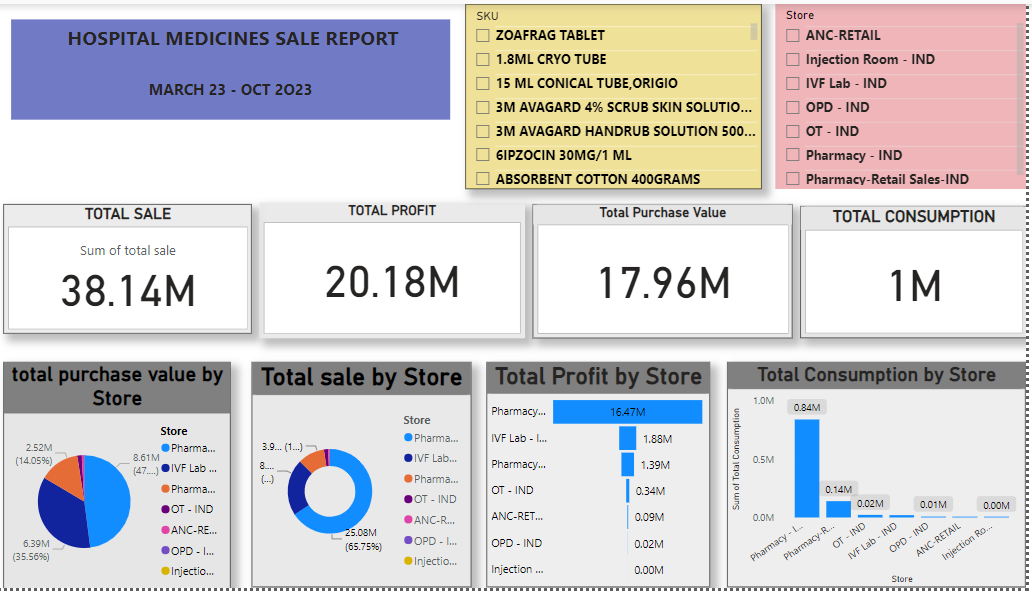

The dashboard page shown, as its layout file describes it:
{"tool":"powerbi","page":{"name":"Page 1","canvas":[1280,720],"ordinal":0},"visuals":[{"type":"pieChart","title":"total purchase value by Store","fields":{"Y":["Sum(Sheet1.Purchase Value with GST)"],"Category":["Sheet1.Store"]},"box":[19,441.4,280,280],"z":0},{"type":"donutChart","title":" Total sale by Store","fields":{"Y":["Sum(Sheet1.total sale)"],"Category":["Sheet1.Store"]},"box":[325.1,441.4,270.5,277.6],"z":1000},{"type":"funnel","title":"Total Profit by Store","fields":{"Y":["Sum(Sheet1.Total Profit)"],"Category":["Sheet1.Store"]},"box":[614.6,441.4,275.3,277.6],"z":2000},{"type":"columnChart","title":"Total Consumption by Store","fields":{"Y":["Sum(Sheet1.Total Consumption)"],"Category":["Sheet1.Store"]},"box":[911.3,441.4,367.8,277.6],"z":3000},{"type":"cardVisual","title":"TOTAL SALE","fields":{"Data":["Sum(Sheet1.total sale)"]},"box":[18.6,247.5,306.1,159.7],"z":4000},{"type":"cardVisual","title":"TOTAL PROFIT","fields":{"Data":["Sum(Sheet1.Total Profit)"]},"box":[335.4,244.9,327.4,167.7],"z":5000},{"type":"cardVisual","title":"Total Purchase Value","fields":{"Data":["Sum(Sheet1.Purchase Value with GST)"]},"box":[671,246,320,165],"z":6000},{"type":"cardVisual","title":"TOTAL CONSUMPTION","fields":{"Data":["Sum(Sheet1.Total Consumption)"]},"box":[1000.8,250.2,279.5,162.4],"z":7000},{"type":"slicer","fields":{"Values":["Sheet1.Store"]},"box":[970.6,0,310.9,227.8],"z":8000},{"type":"slicer","fields":{"Values":["Sheet1.SKU"]},"box":[588.5,0,365.5,227.8],"z":9000},{"type":"textbox","box":[28.5,19,541.1,123.4],"z":10000}]}

Visuals, with their boxes in screenshot pixels (x1, y1, x2, y2), scaled from the page's 1280x720 canvas onto the 1032x597 screenshot:
"total purchase value by Store" pieChart: [15, 366, 241, 596]
" Total sale by Store" donutChart: [262, 366, 480, 596]
"Total Profit by Store" funnel: [496, 366, 717, 596]
"Total Consumption by Store" columnChart: [735, 366, 1031, 596]
"TOTAL SALE" cardVisual: [15, 205, 262, 338]
"TOTAL PROFIT" cardVisual: [270, 203, 534, 342]
"Total Purchase Value" cardVisual: [541, 204, 799, 341]
"TOTAL CONSUMPTION" cardVisual: [807, 207, 1031, 342]
slicer - Sheet1.Store: [783, 0, 1031, 189]
slicer - Sheet1.SKU: [474, 0, 769, 189]
textbox: [23, 16, 459, 118]
